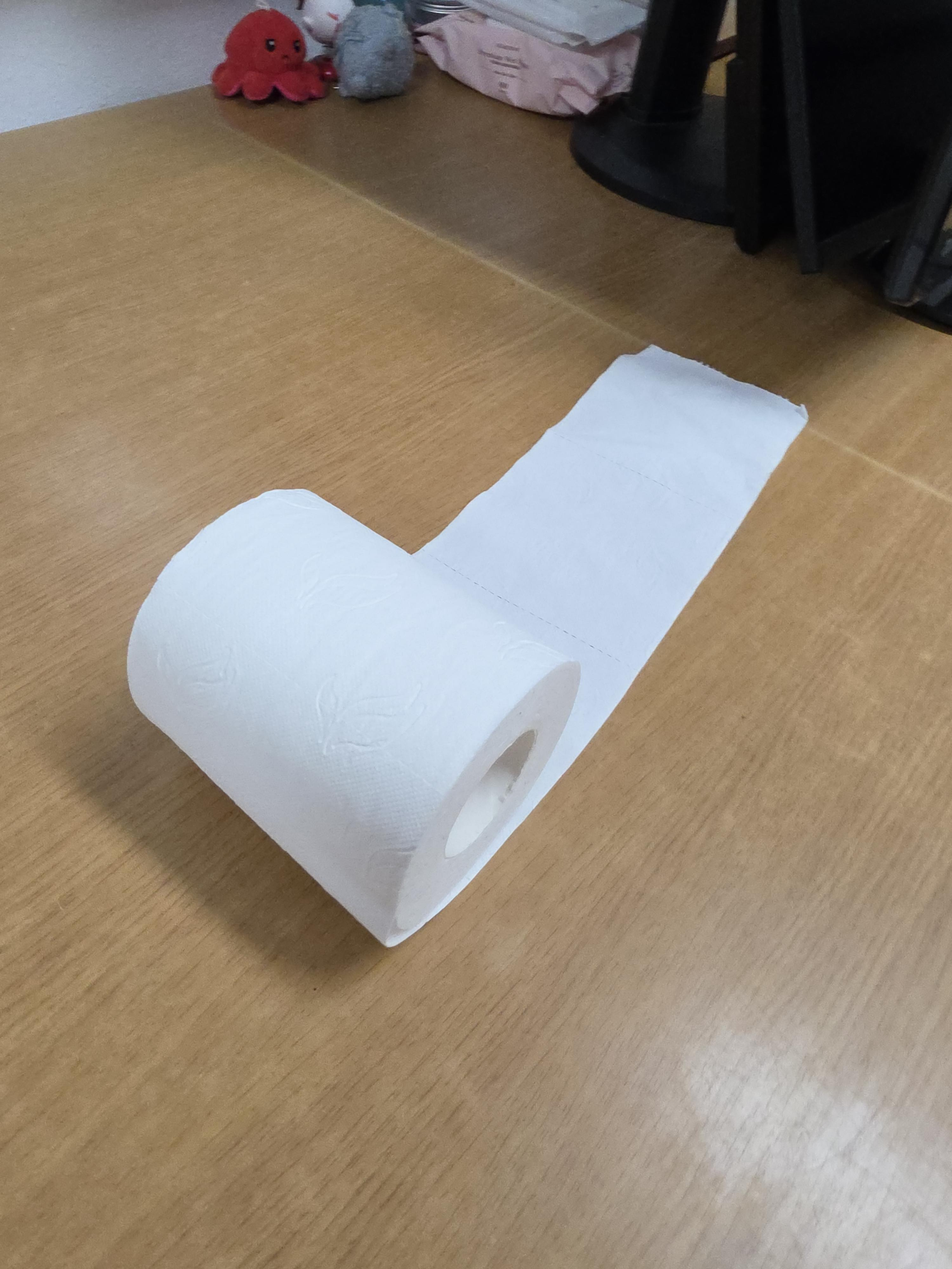tissue: (128, 345, 808, 949)
